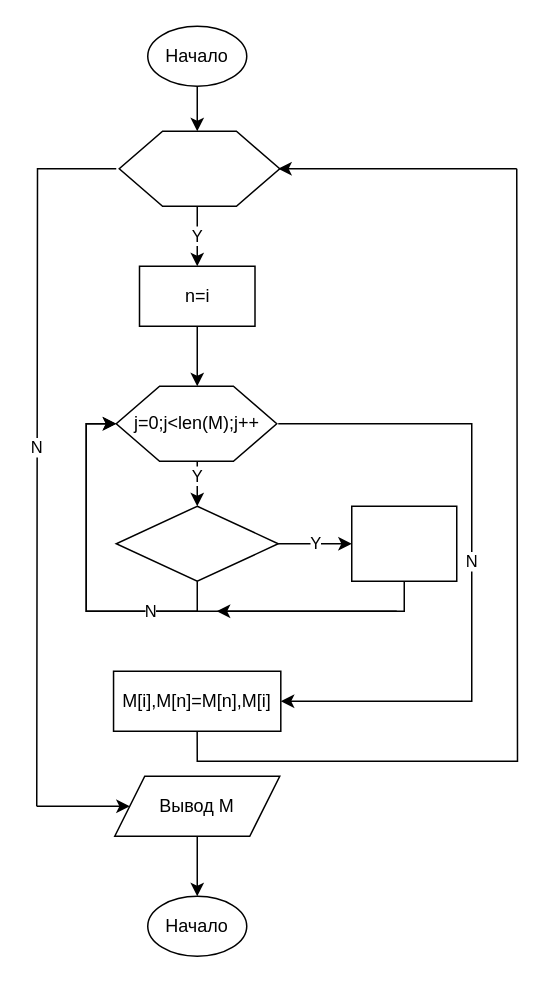
Some shapes in this 555 by 983 pixel diagram are drawn without their labels. The shapes that lost their labels are listed below. From the top down, each one's box as (x1, y1, x2, y2) in pixels, then its label:
(118, 130, 280, 206): i=0;i<len(M);i++
(115, 505, 278, 581): M[j]<M[n]
(350, 505, 457, 581): n=j
